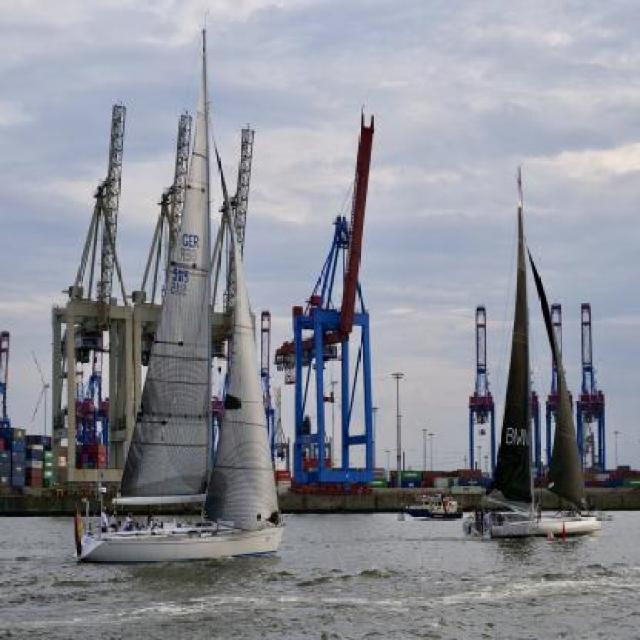ship: (74, 29, 286, 562), (462, 164, 600, 539), (400, 492, 462, 516)
